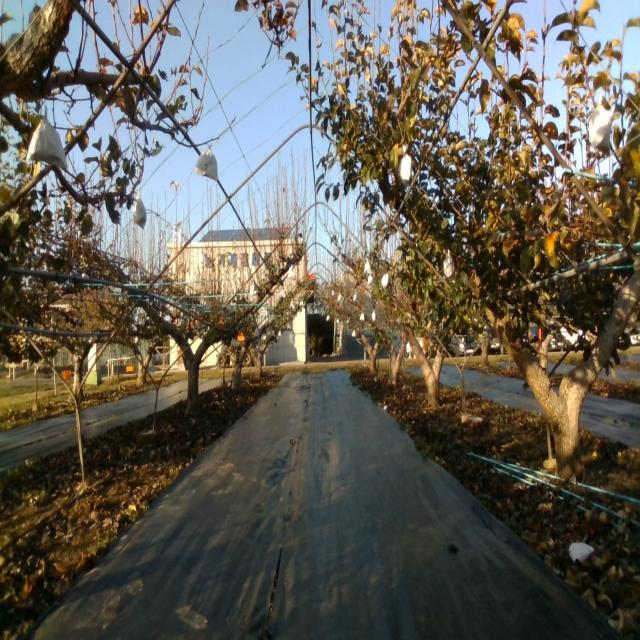pearbags: (25, 119, 68, 171), (588, 100, 612, 157), (194, 142, 218, 182), (132, 190, 148, 230), (398, 153, 413, 186), (443, 254, 454, 280)
